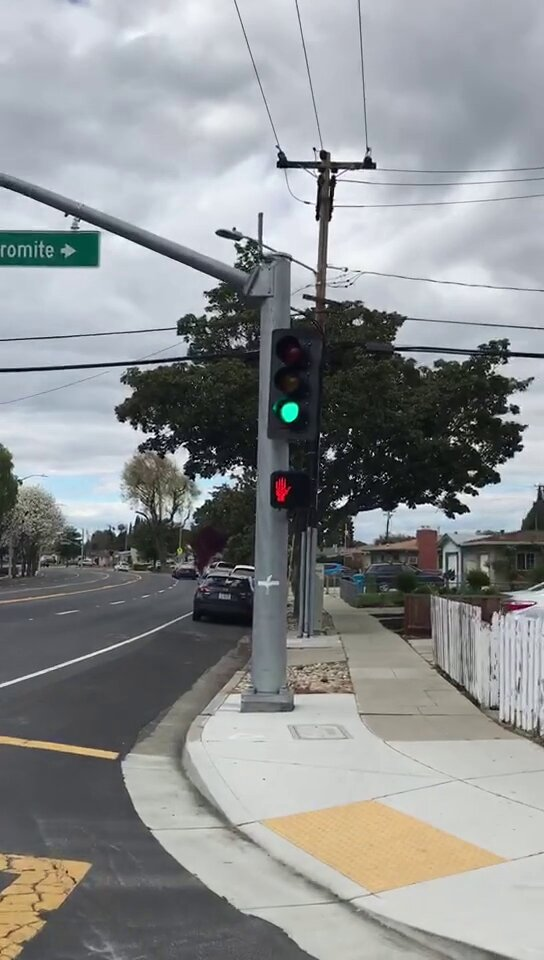green_light: (273, 329, 319, 439)
